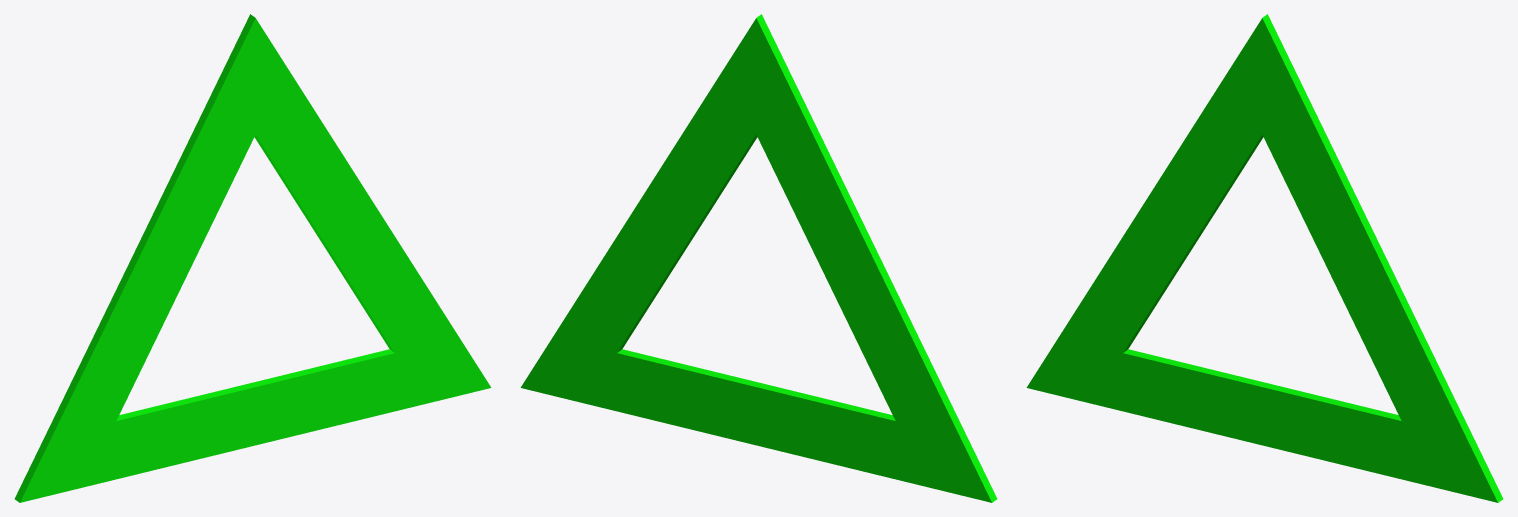
Rendered from gate_triangle_small_green.dae.
The picture shows the model from 3 angles, left to right: view 1: azimuth 30°, elevation 25°; view 2: azimuth 150°, elevation 25°; view 3: azimuth 330°, elevation 25°; orthographic projection.
Visible parts, largest first — view 1: Triangle Small; view 2: Triangle Small; view 3: Triangle Small.
Boxes of the visible parts, bbox=[...] form: Triangle Small: bbox=[14, 14, 491, 502]; Triangle Small: bbox=[520, 14, 997, 502]; Triangle Small: bbox=[1026, 14, 1503, 502].
Size of the model in its own units: 1.27 by 0.025 by 1.1.
